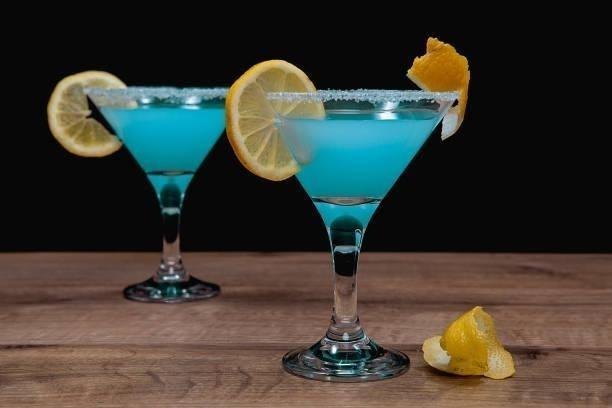glass-wine: (268, 82, 459, 382), (87, 81, 233, 304)
